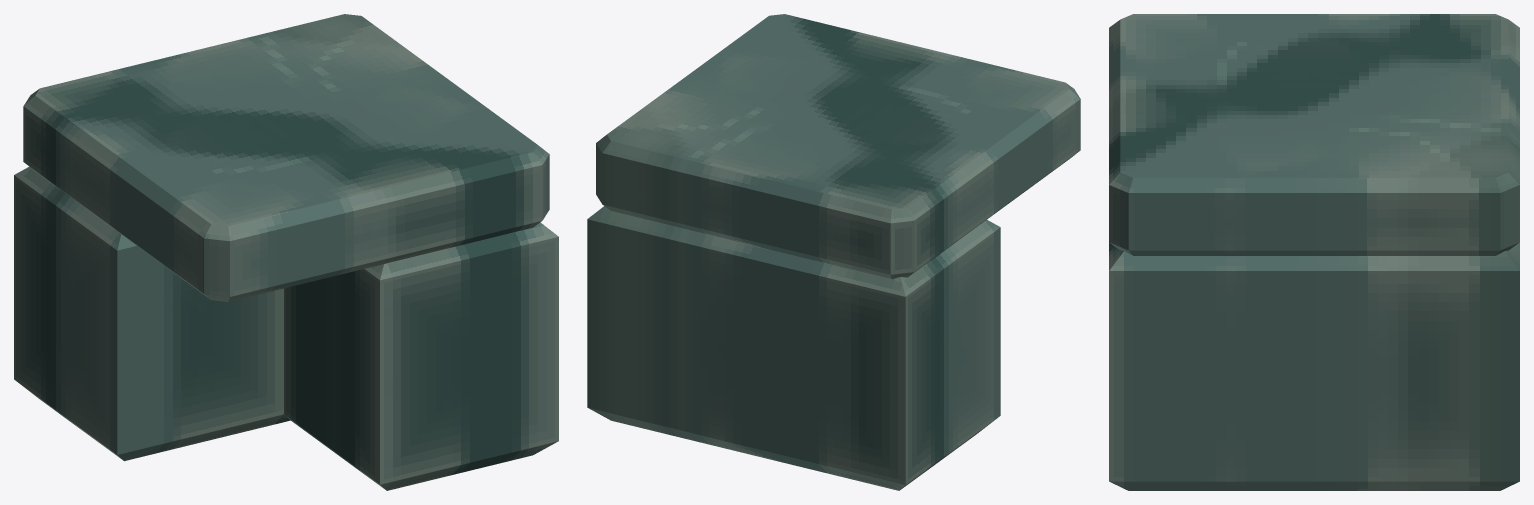
File: relic.glb
The picture shows the model from 3 angles, left to right: view 1: azimuth 30°, elevation 25°; view 2: azimuth 150°, elevation 25°; view 3: azimuth 270°, elevation 25°; orthographic projection. The views are drawn at different scales.
Parts seen in each view (by area): view 1: Body.Metal; view 2: Body.Metal; view 3: Body.Metal.
Boxes of the visible parts, box(x1,y1,x2,y2) form: Body.Metal: box(14, 14, 558, 490); Body.Metal: box(587, 14, 1080, 490); Body.Metal: box(1109, 14, 1519, 490).
Size of the model in its own units: 0.1581 by 0.1344 by 0.1581.
1 material, 1 textured.
